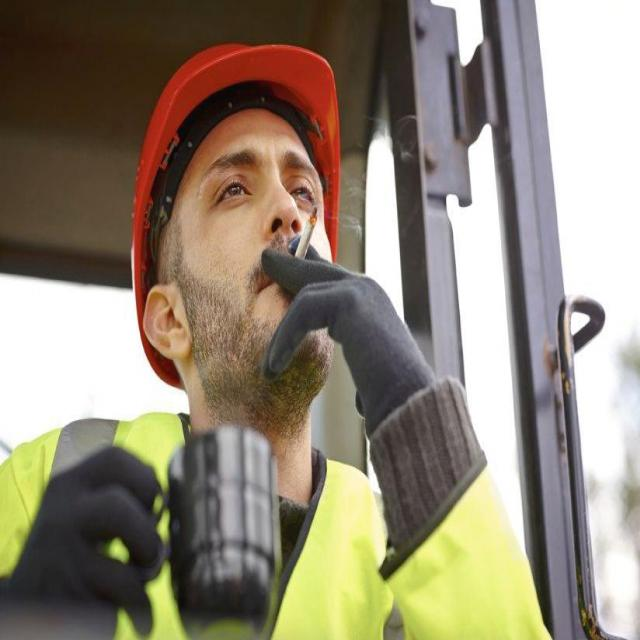cigarette: (277, 192, 336, 295)
